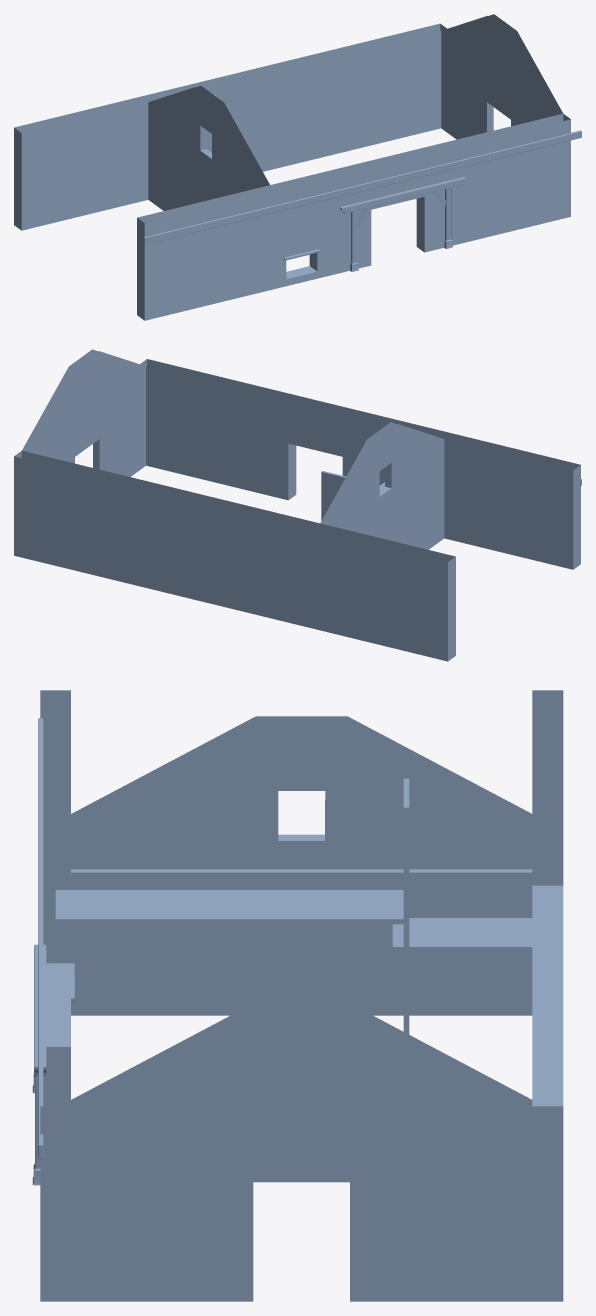
Rendered from SM_barn_walls.fbx.
The picture shows the model from 3 angles, top to bottom: view 1: azimuth 30°, elevation 25°; view 2: azimuth 150°, elevation 25°; view 3: azimuth 270°, elevation 25°; orthographic projection. The views are drawn at different scales.
Parts seen in each view (by area): view 1: Fireplace:Fireplace:Fireplace:Fireplace:Animal_stables10, Animal_stables2, Animal_stables13, Animal_stables11, pCube271, Beam24, Outdoor_post9, Outdoor_post10; view 2: Fireplace:Fireplace:Fireplace:Fireplace:Animal_stables10, Animal_stables2, Animal_stables13, Animal_stables11, pCube465; view 3: Animal_stables13, Animal_stables2, Fireplace:Fireplace:Fireplace:Fireplace:Animal_stables10, pCube466, Animal_stables32, pCube464, Animal_stables11, pCube271, pCube465, Beam24, Fireplace:Fireplace:Fireplace:Fireplace:pCube257.
Part boxes in pixels (box(x1,y1,x2,y2)): Fireplace:Fireplace:Fireplace:Fireplace:Animal_stables10: box(14, 23, 570, 320); Animal_stables2: box(148, 86, 269, 210); Animal_stables13: box(441, 14, 562, 139); Animal_stables11: box(171, 227, 271, 307); pCube271: box(143, 130, 581, 244); Beam24: box(340, 177, 466, 213); Outdoor_post9: box(350, 208, 369, 271); Outdoor_post10: box(433, 188, 452, 248); Fireplace:Fireplace:Fireplace:Fireplace:Animal_stables10: box(14, 359, 580, 661); Animal_stables2: box(320, 422, 444, 549); Animal_stables13: box(22, 349, 145, 476); Animal_stables11: box(444, 479, 546, 555); pCube465: box(321, 471, 345, 520); Animal_stables13: box(71, 1002, 532, 1301); Animal_stables2: box(71, 716, 532, 1015); Fireplace:Fireplace:Fireplace:Fireplace:Animal_stables10: box(40, 690, 563, 1301); pCube466: box(55, 890, 404, 924); Animal_stables32: box(71, 869, 532, 886); pCube464: box(392, 918, 532, 952); Animal_stables11: box(43, 786, 70, 963); pCube271: box(38, 718, 43, 1158); pCube465: box(403, 778, 409, 1034); Beam24: box(34, 944, 46, 1075); Fireplace:Fireplace:Fireplace:Fireplace:pCube257: box(46, 963, 74, 1002).
Size of the model in its own units: 3284 by 1051 by 1724.
